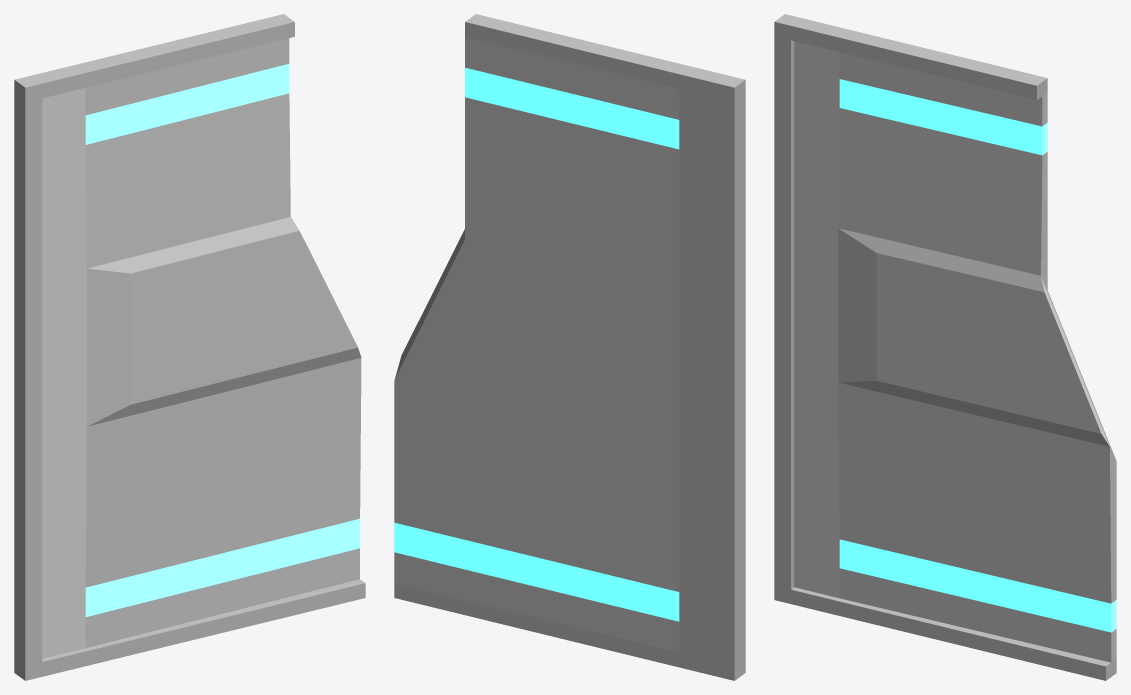
The model's file is Left Door 1.fbx.
3 renders of one model, left to right at view 1: azimuth 30°, elevation 25°; view 2: azimuth 150°, elevation 25°; view 3: azimuth 330°, elevation 25°, orthographic. The views are drawn at different scales.
Parts seen in each view (by area): view 1: Cube; view 2: Cube; view 3: Cube.
Boxes of the visible parts, left/top/right/bottom form: Cube: left=14, top=14, right=365, bottom=680; Cube: left=394, top=14, right=745, bottom=680; Cube: left=774, top=14, right=1116, bottom=680.
Size of the model in its own units: 180 by 300 by 10.28.
